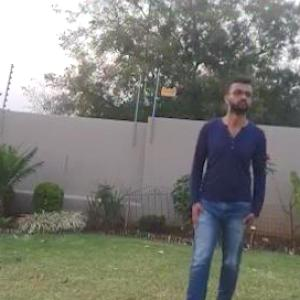follow: (176, 74, 266, 299)
